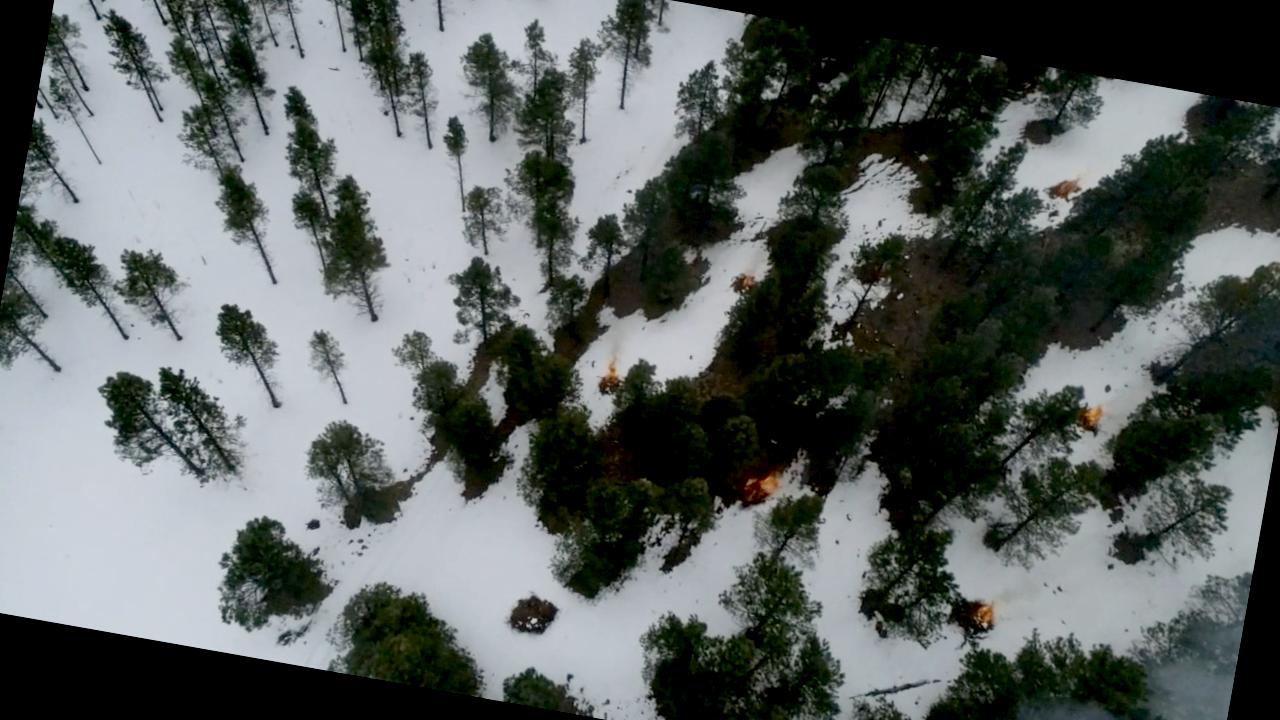fire: (731, 461, 780, 521), (964, 596, 1000, 636), (1072, 404, 1105, 433)
smoke: (964, 587, 1242, 720)
